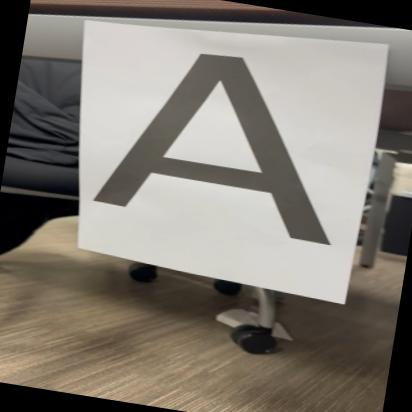seat: (79, 29, 380, 251)
